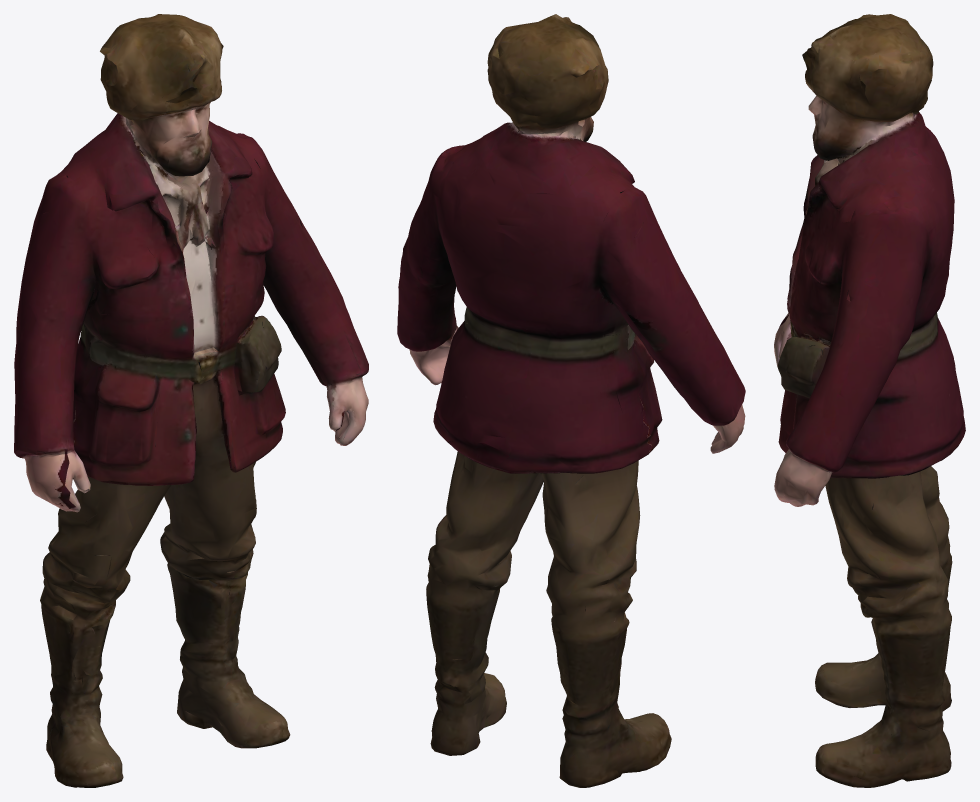
The model's file is trader.glb.
3 views of the same model, side by side, from view 1: azimuth 30°, elevation 25°; view 2: azimuth 150°, elevation 25°; view 3: azimuth 270°, elevation 25° (orthographic). The views are drawn at different scales.
Parts seen in each view (by area): view 1: trader; view 2: trader; view 3: trader.
Part boxes in pixels (left/top/right/bottom): trader: left=14, top=14, right=368, bottom=787; trader: left=397, top=14, right=745, bottom=787; trader: left=774, top=14, right=965, bottom=787.
Size of the model in its own units: 0.8874 by 1.8 by 0.437.
Materials: 1 (1 with a texture image).
